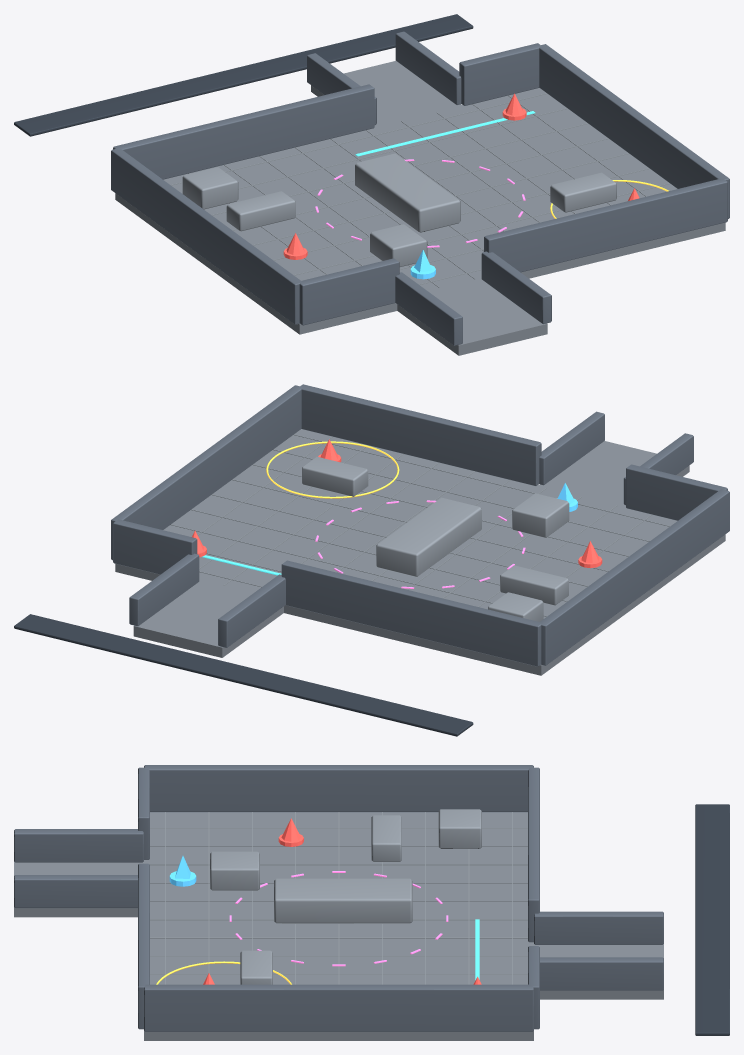
The model's file is isometric_shooter_blockout.fbx.
3 views of the same model, one above another, from view 1: azimuth 30°, elevation 25°; view 2: azimuth 150°, elevation 25°; view 3: azimuth 270°, elevation 25° (orthographic). The views are drawn at different scales.
Visible parts, largest first — view 1: main combat room floor (24 x 18 m), north-west wall, south-east wall, west wall, title backing, east wall, entry corridor floor, central long cover, south-west wall, north-east wall, exit corridor floor, entry right cheek (+8 smaller); view 2: main combat room floor (24 x 18 m), north-west wall, south-east wall, west wall, title backing, east wall, exit corridor floor, central long cover, entry corridor floor, south-west wall, north-east wall, exit right cheek (+8 smaller); view 3: main combat room floor (24 x 18 m), east wall, west wall, title backing, central long cover, entry left cheek, exit left cheek, entry right cheek, exit right cheek, entry corridor floor, exit corridor floor, south offset cover (+10 smaller).
Boxes of the visible parts, box(x1,y1,x2,y2) form: main combat room floor (24 x 18 m): box(115, 88, 725, 334); north-west wall: box(113, 84, 374, 179); south-east wall: box(484, 179, 727, 272); west wall: box(111, 148, 302, 324); title backing: box(14, 14, 473, 136); east wall: box(539, 44, 729, 218); entry corridor floor: box(397, 280, 547, 355); central long cover: box(355, 153, 460, 232); south-west wall: box(299, 258, 399, 325); north-east wall: box(459, 43, 541, 105); exit corridor floor: box(311, 61, 460, 125); entry right cheek: box(481, 251, 551, 324); main combat room floor (24 x 18 m): box(115, 429, 725, 675); north-west wall: box(281, 560, 541, 666); south-east wall: box(300, 384, 541, 486); west wall: box(540, 489, 729, 665); title backing: box(14, 614, 473, 736); east wall: box(111, 385, 302, 560); exit corridor floor: box(133, 582, 283, 657); central long cover: box(376, 497, 481, 577); entry corridor floor: box(540, 441, 689, 505); south-west wall: box(626, 464, 727, 520); north-east wall: box(113, 519, 197, 574); exit right cheek: box(129, 553, 199, 626); main combat room floor (24 x 18 m): box(144, 812, 533, 1040); east wall: box(144, 984, 533, 1031); west wall: box(144, 765, 533, 812); title backing: box(695, 804, 729, 1035); central long cover: box(274, 878, 412, 923); entry left cheek: box(14, 829, 143, 862); exit left cheek: box(534, 911, 663, 944); entry right cheek: box(14, 875, 137, 908); exit right cheek: box(540, 957, 663, 990); entry corridor floor: box(14, 861, 143, 917); exit corridor floor: box(534, 944, 663, 999); south offset cover: box(210, 851, 259, 890).
Bounding box in the file's own units: 2500 × 276 × 3305.
